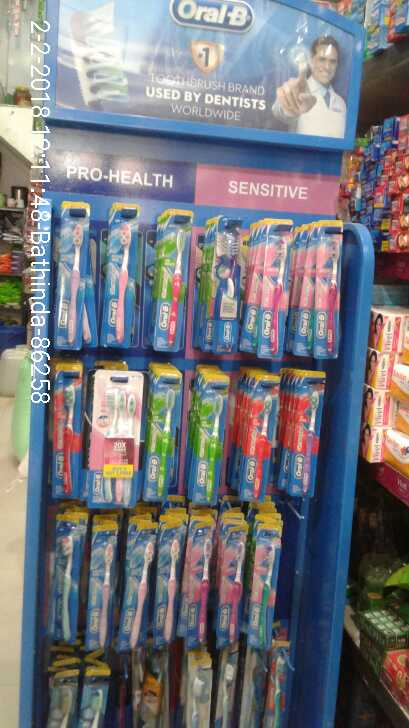oralb: (250, 212, 293, 353), (92, 387, 140, 505), (310, 219, 348, 365), (146, 221, 186, 349), (120, 528, 156, 655), (97, 222, 132, 345), (190, 384, 227, 500), (54, 212, 86, 341), (89, 530, 119, 659), (252, 536, 284, 654), (225, 521, 251, 661), (209, 218, 236, 342), (160, 543, 190, 651), (148, 378, 175, 497), (296, 381, 324, 495), (247, 385, 274, 501), (186, 534, 213, 649), (52, 529, 75, 653), (53, 390, 79, 496)
